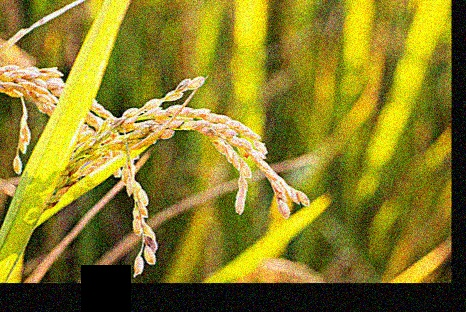rice: (71, 72, 307, 281)
